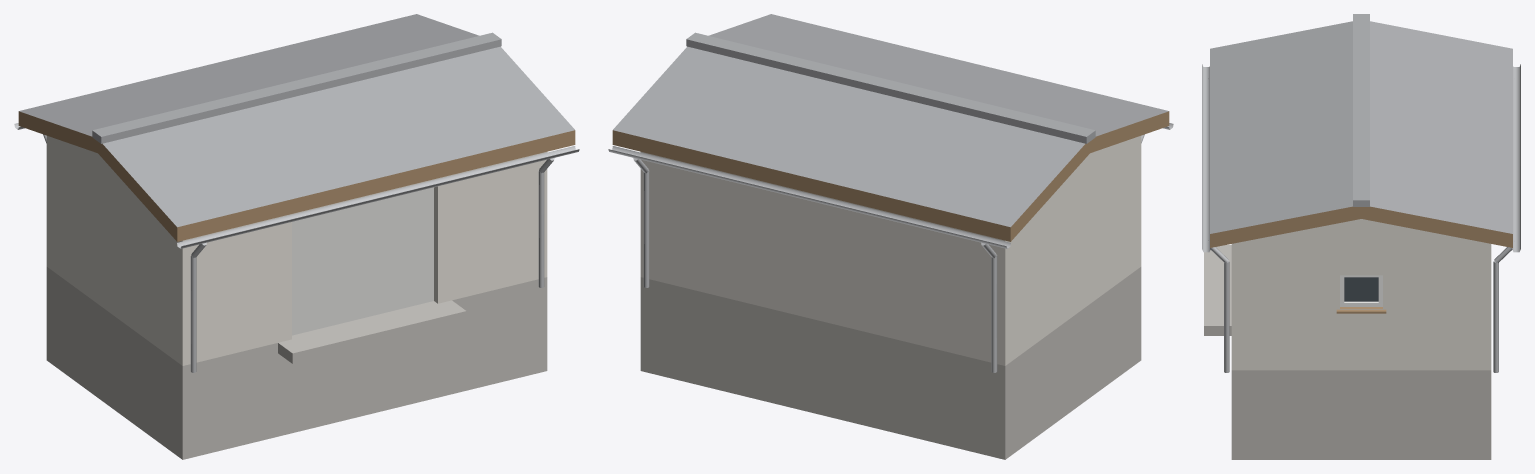
File: garage_m.glb
3 renders of one model, left to right at view 1: azimuth 30°, elevation 25°; view 2: azimuth 150°, elevation 25°; view 3: azimuth 270°, elevation 25°, orthographic. The views are drawn at different scales.
Visible parts, largest first — view 1: garage_m; view 2: garage_m; view 3: garage_m.
Part boxes in pixels (x1,y1,x2,y2): garage_m: [14, 14, 579, 459]; garage_m: [608, 14, 1173, 459]; garage_m: [1202, 14, 1520, 459].
Size of the model in its own units: 7.14 by 4.79 by 5.16.
